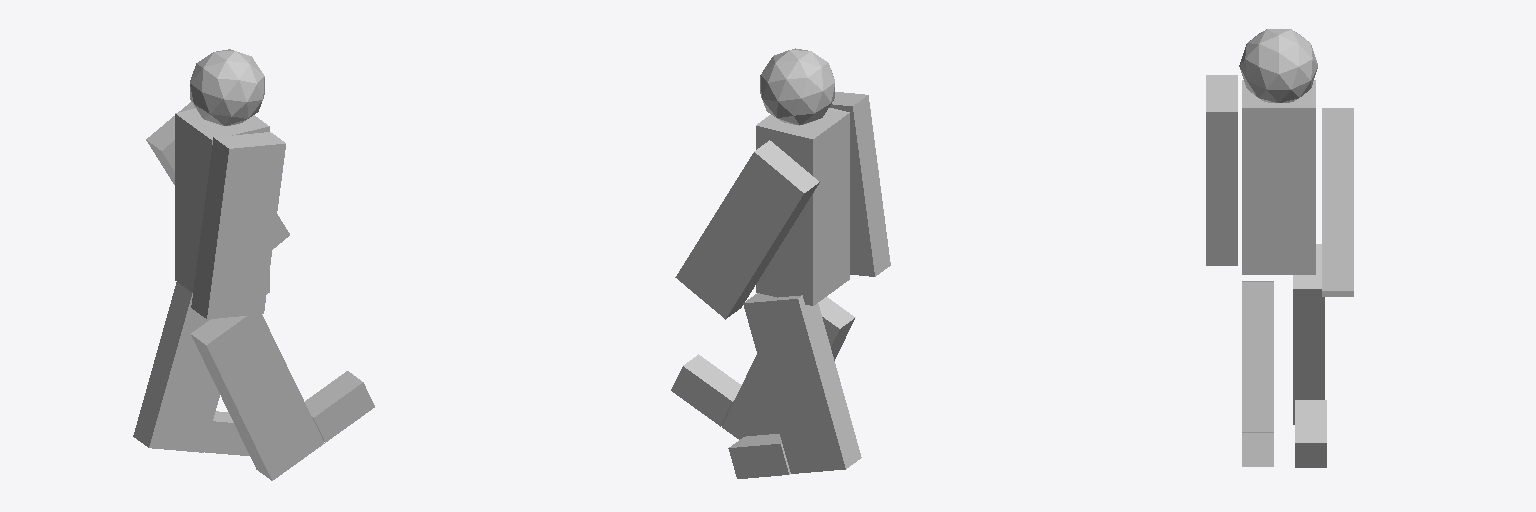
The model's file is player_000032.obj.
3 renders of one model, left to right at view 1: azimuth 30°, elevation 25°; view 2: azimuth 150°, elevation 25°; view 3: azimuth 270°, elevation 25°, orthographic.
Parts seen in each view (by area): view 1: Cube.013, Cube.010, Cube.008, Cube.007, Icosphere.001, Cube.011, Cube.012, Cube.009; view 2: Cube.008, Cube.012, Cube.007, Cube.013, Icosphere.001, Cube.010, Cube.011, Cube.009; view 3: Cube.007, Cube.013, Cube.012, Cube.010, Icosphere.001, Cube.008, Cube.009, Cube.011.
Boxes of the visible parts, box(x1,y1,x2,y2) form: Cube.013: box(191, 132, 285, 319); Cube.010: box(191, 314, 324, 480); Cube.008: box(133, 282, 219, 452); Cube.007: box(175, 108, 269, 293); Icosphere.001: box(190, 49, 264, 125); Cube.011: box(305, 371, 374, 442); Cube.012: box(146, 102, 289, 248); Cube.009: box(204, 411, 249, 455); Cube.008: box(743, 293, 861, 473); Cube.012: box(675, 140, 819, 319); Cube.007: box(756, 108, 849, 305); Cube.013: box(829, 92, 890, 276); Icosphere.001: box(760, 48, 834, 125); Cube.010: box(722, 297, 855, 439); Cube.011: box(671, 354, 741, 426); Cube.009: box(728, 434, 790, 478); Cube.007: box(1242, 80, 1315, 274); Cube.013: box(1206, 75, 1237, 265); Cube.012: box(1322, 108, 1353, 296); Cube.010: box(1242, 281, 1273, 431); Icosphere.001: box(1239, 29, 1317, 102); Cube.008: box(1293, 244, 1324, 424); Cube.009: box(1295, 400, 1326, 467); Cube.011: box(1242, 432, 1273, 466).
Size of the model in its own units: 1.43 by 2.87 by 0.9137.